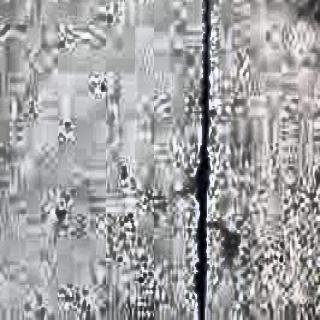crack: (193, 0, 216, 320)
